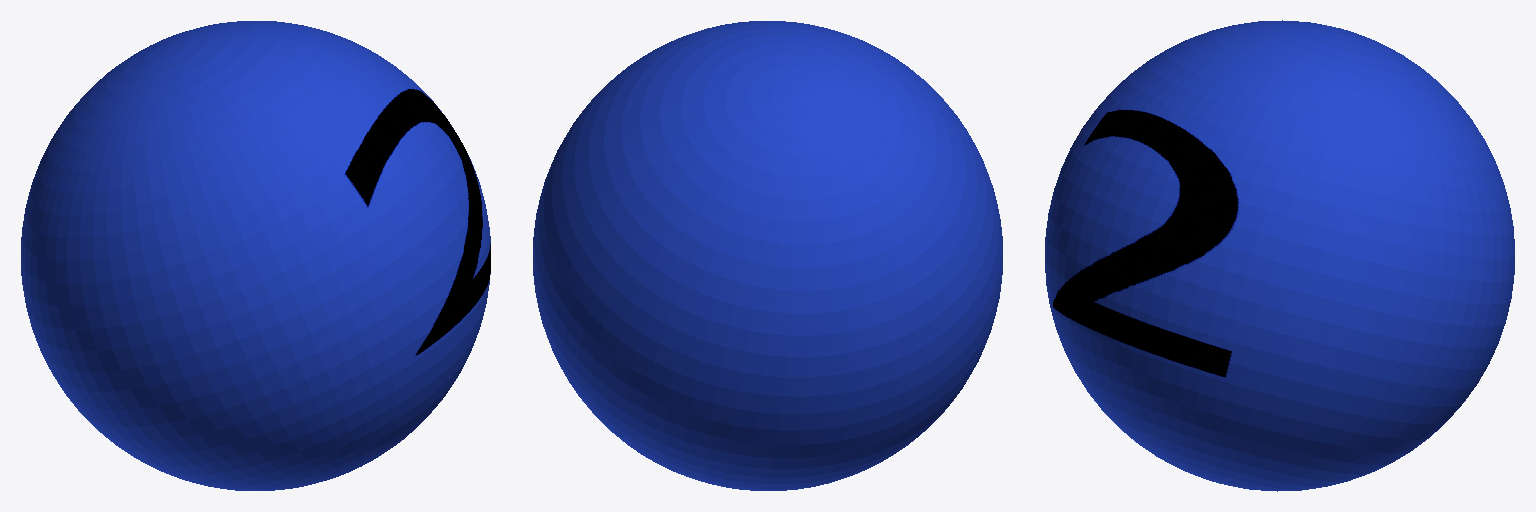
The picture shows the model from 3 angles: view 1: azimuth 30°, elevation 25°; view 2: azimuth 150°, elevation 25°; view 3: azimuth 270°, elevation 25°; orthographic projection.
Visible parts, largest first — view 1: Sphere; view 2: Sphere; view 3: Sphere.
Boxes of the visible parts, <box> form: Sphere: <box>21,21,490,490</box>; Sphere: <box>533,21,1002,490</box>; Sphere: <box>1045,20,1514,491</box>.
Size of the model in its own units: 2 by 2 by 2.
1 materials, 1 textured.